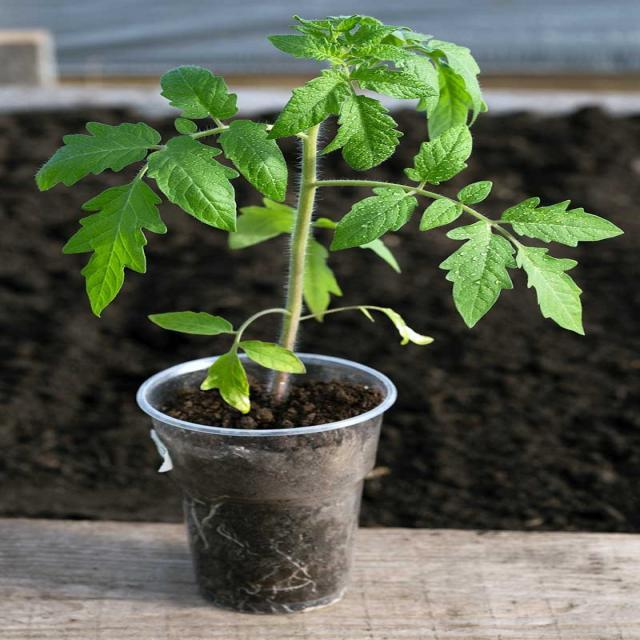tomato: (34, 14, 623, 415)
